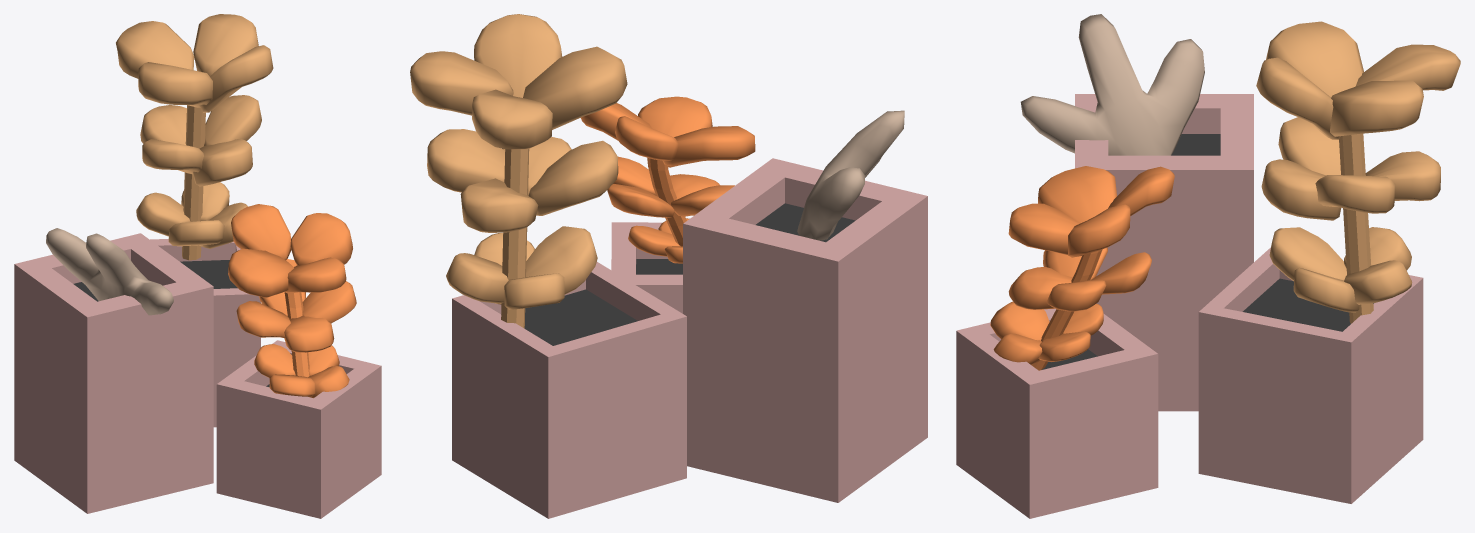
The model's file is Folige_02.fbx.
The picture shows the model from 3 angles, left to right: view 1: azimuth 30°, elevation 25°; view 2: azimuth 150°, elevation 25°; view 3: azimuth 270°, elevation 25°; orthographic projection. The views are drawn at different scales.
Visible parts, largest first — view 1: Cube.269; view 2: Cube.269; view 3: Cube.269.
Boxes of the visible parts, x1,y1,x2,y2 form: Cube.269: [14, 14, 381, 518]; Cube.269: [410, 14, 927, 518]; Cube.269: [956, 14, 1460, 518].
Bounding box in the file's own units: 77.62 × 90.87 × 94.74.
